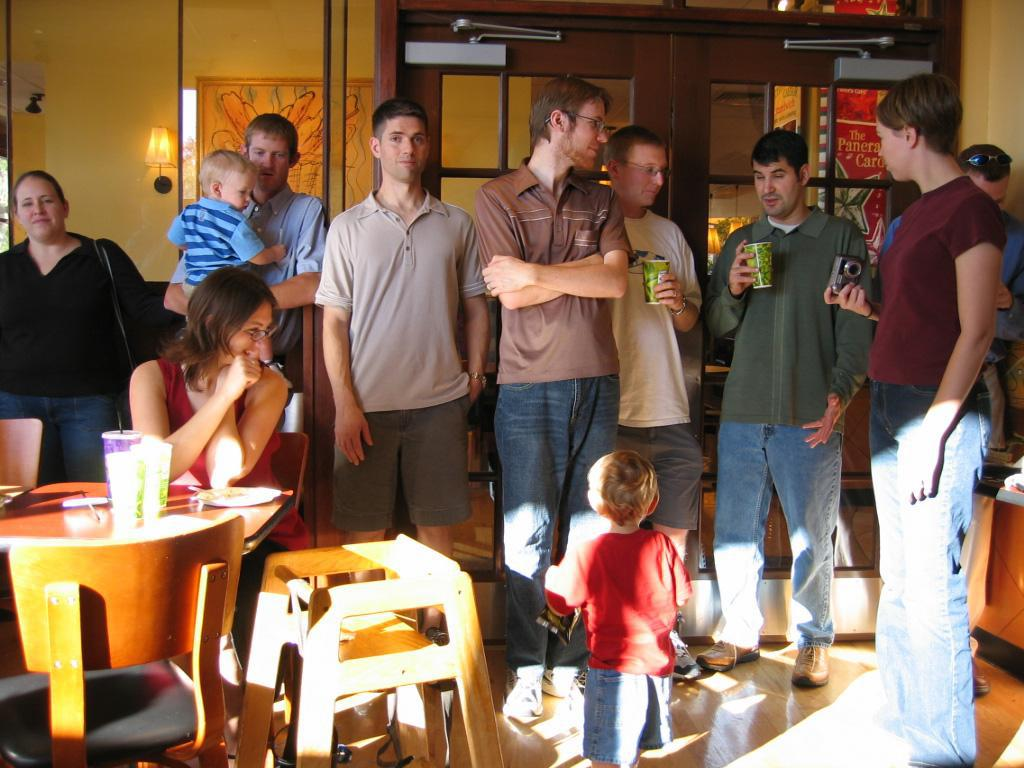face: (620, 151, 668, 207), (380, 125, 428, 180), (221, 311, 273, 361), (567, 106, 607, 167), (755, 163, 801, 216), (19, 189, 64, 237), (249, 141, 291, 190), (878, 124, 907, 181), (973, 183, 1010, 227), (587, 464, 610, 514), (223, 179, 256, 212)
